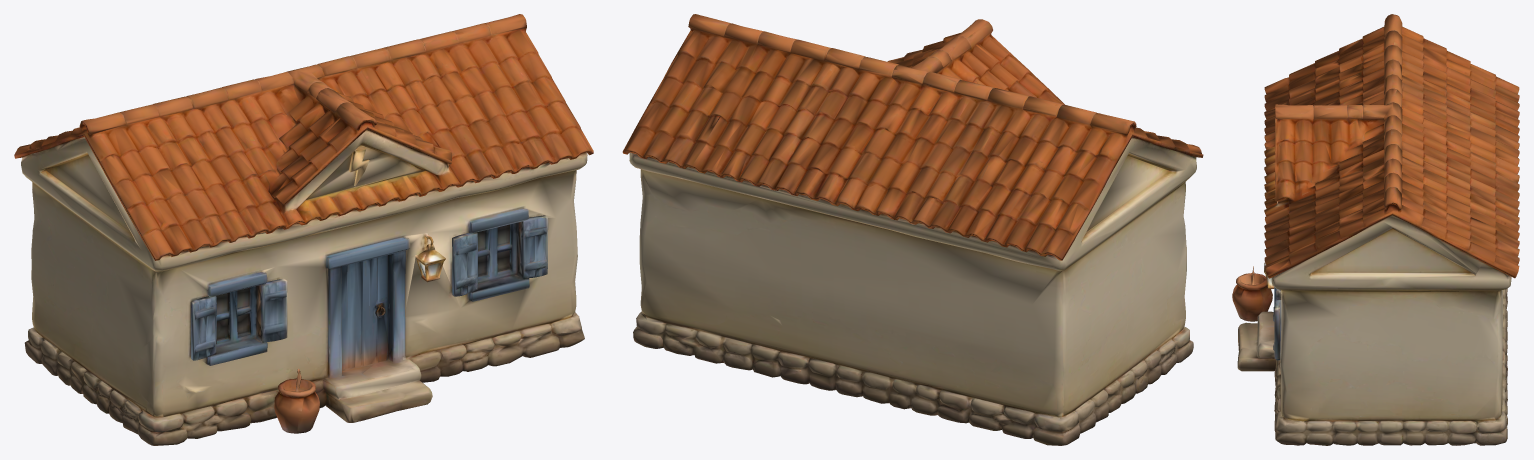
The model's file is home_cottage_t1.hunyuan.glb.
3 renders of one model, left to right at view 1: azimuth 30°, elevation 25°; view 2: azimuth 150°, elevation 25°; view 3: azimuth 270°, elevation 25°, orthographic. The views are drawn at different scales.
Parts seen in each view (by area): view 1: node_0; view 2: node_0; view 3: node_0.
Boxes of the visible parts, bbox=[...] form: node_0: bbox=[14, 14, 593, 445]; node_0: bbox=[622, 14, 1203, 445]; node_0: bbox=[1232, 14, 1519, 445].
Bounding box in the file's own units: 6.8 × 4.16 × 4.4.
Materials: 1 (1 with a texture image).
